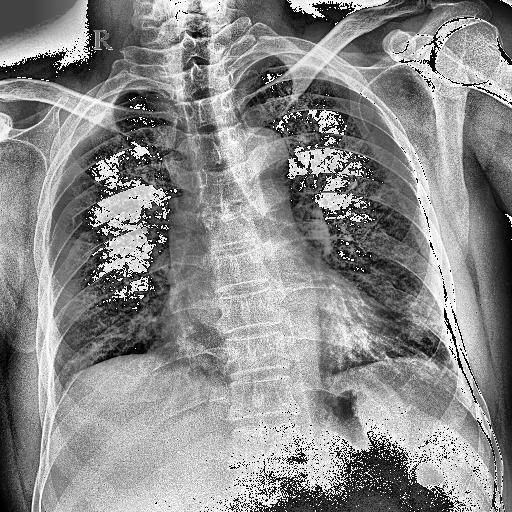5- ILD: (322, 270, 452, 368)
6- Infiltration: (344, 266, 454, 372)
7- Lung Opacity: (348, 258, 444, 365)
